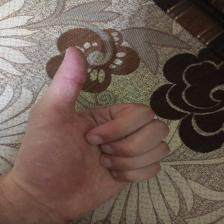five: (28, 44, 174, 212)
